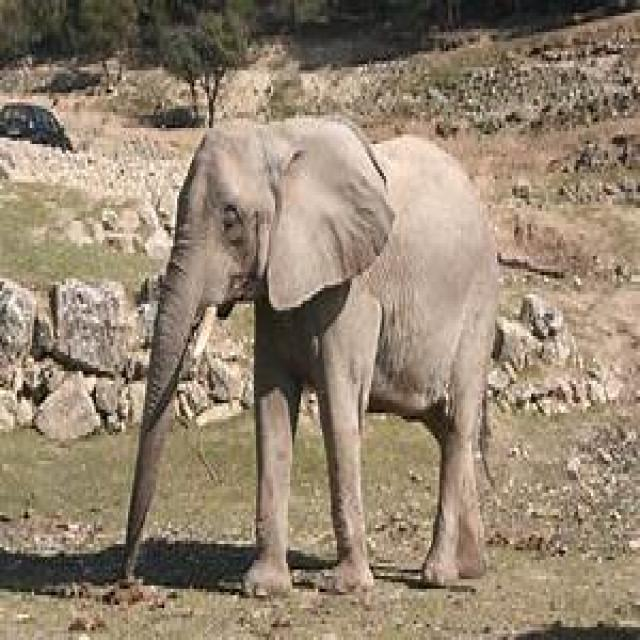elephant: (122, 118, 501, 602)
